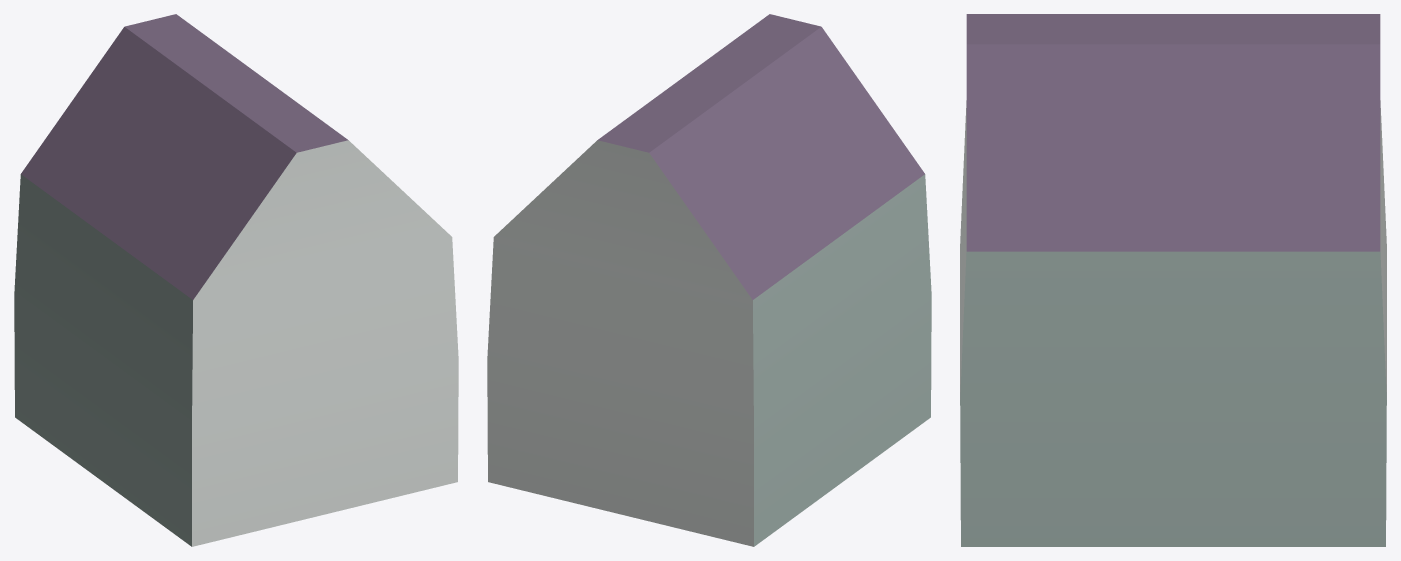
The model's file is House03_White.glb.
The picture shows the model from 3 angles, left to right: view 1: azimuth 30°, elevation 25°; view 2: azimuth 150°, elevation 25°; view 3: azimuth 270°, elevation 25°; orthographic projection. The views are drawn at different scales.
Visible parts, largest first — view 1: House03_White; view 2: House03_White; view 3: House03_White.
Boxes of the visible parts, x1=… form: House03_White: x1=14, y1=14, x2=458, y2=546; House03_White: x1=487, y1=14, x2=931, y2=546; House03_White: x1=960, y1=14, x2=1386, y2=546.
Bounding box in the file's own units: 1.91 × 2.51 × 2.21.
1 material, 1 textured.
